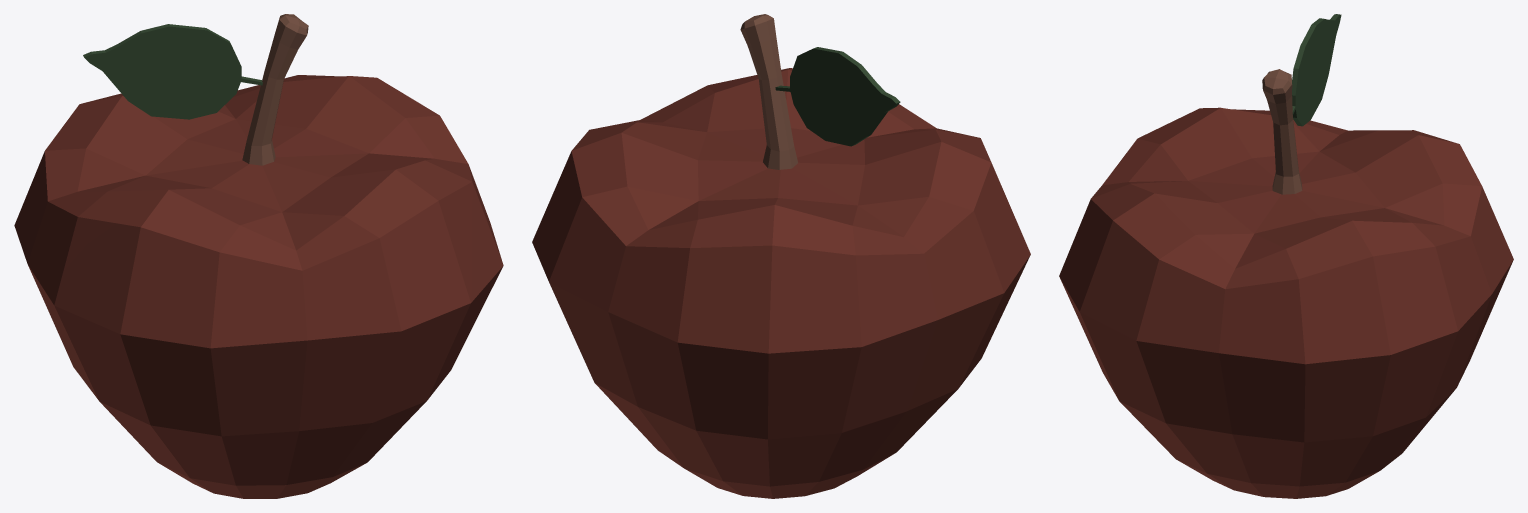
The model's file is apple.glb.
3 renders of one model, left to right at view 1: azimuth 30°, elevation 25°; view 2: azimuth 150°, elevation 25°; view 3: azimuth 270°, elevation 25°, orthographic. The views are drawn at different scales.
Visible parts, largest first — view 1: Apple; view 2: Apple; view 3: Apple.
Part boxes in pixels (<box>): Apple: <box>14,14,503,498</box>; Apple: <box>532,14,1030,498</box>; Apple: <box>1059,14,1513,498</box>.
Bounding box in the file's own units: 0.8424 × 0.8517 × 0.8396.
